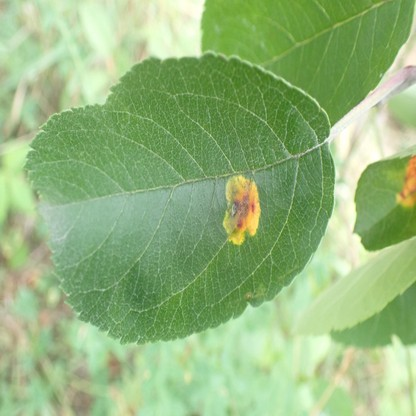rust: (224, 176, 260, 245), (398, 156, 416, 207)
